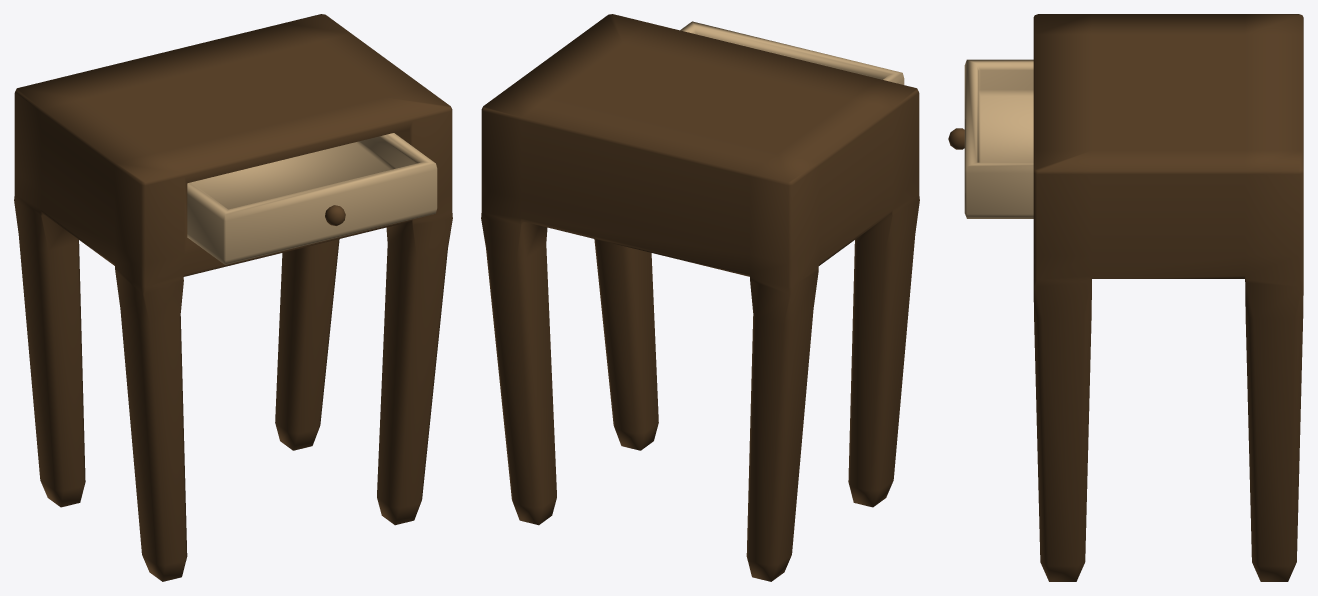
Rendered from table_nuit.fbx.
The picture shows the model from 3 angles, left to right: view 1: azimuth 30°, elevation 25°; view 2: azimuth 150°, elevation 25°; view 3: azimuth 270°, elevation 25°; orthographic projection. The views are drawn at different scales.
Parts seen in each view (by area): view 1: Cube.003; view 2: Cube.003; view 3: Cube.003.
Part boxes in pixels (box(x1,y1,x2,y2)): Cube.003: box(14, 14, 452, 581); Cube.003: box(481, 14, 919, 581); Cube.003: box(948, 14, 1303, 581).
Size of the model in its own units: 618 by 779 by 588.
